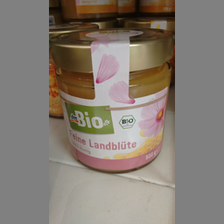honey: (47, 28, 175, 175)
